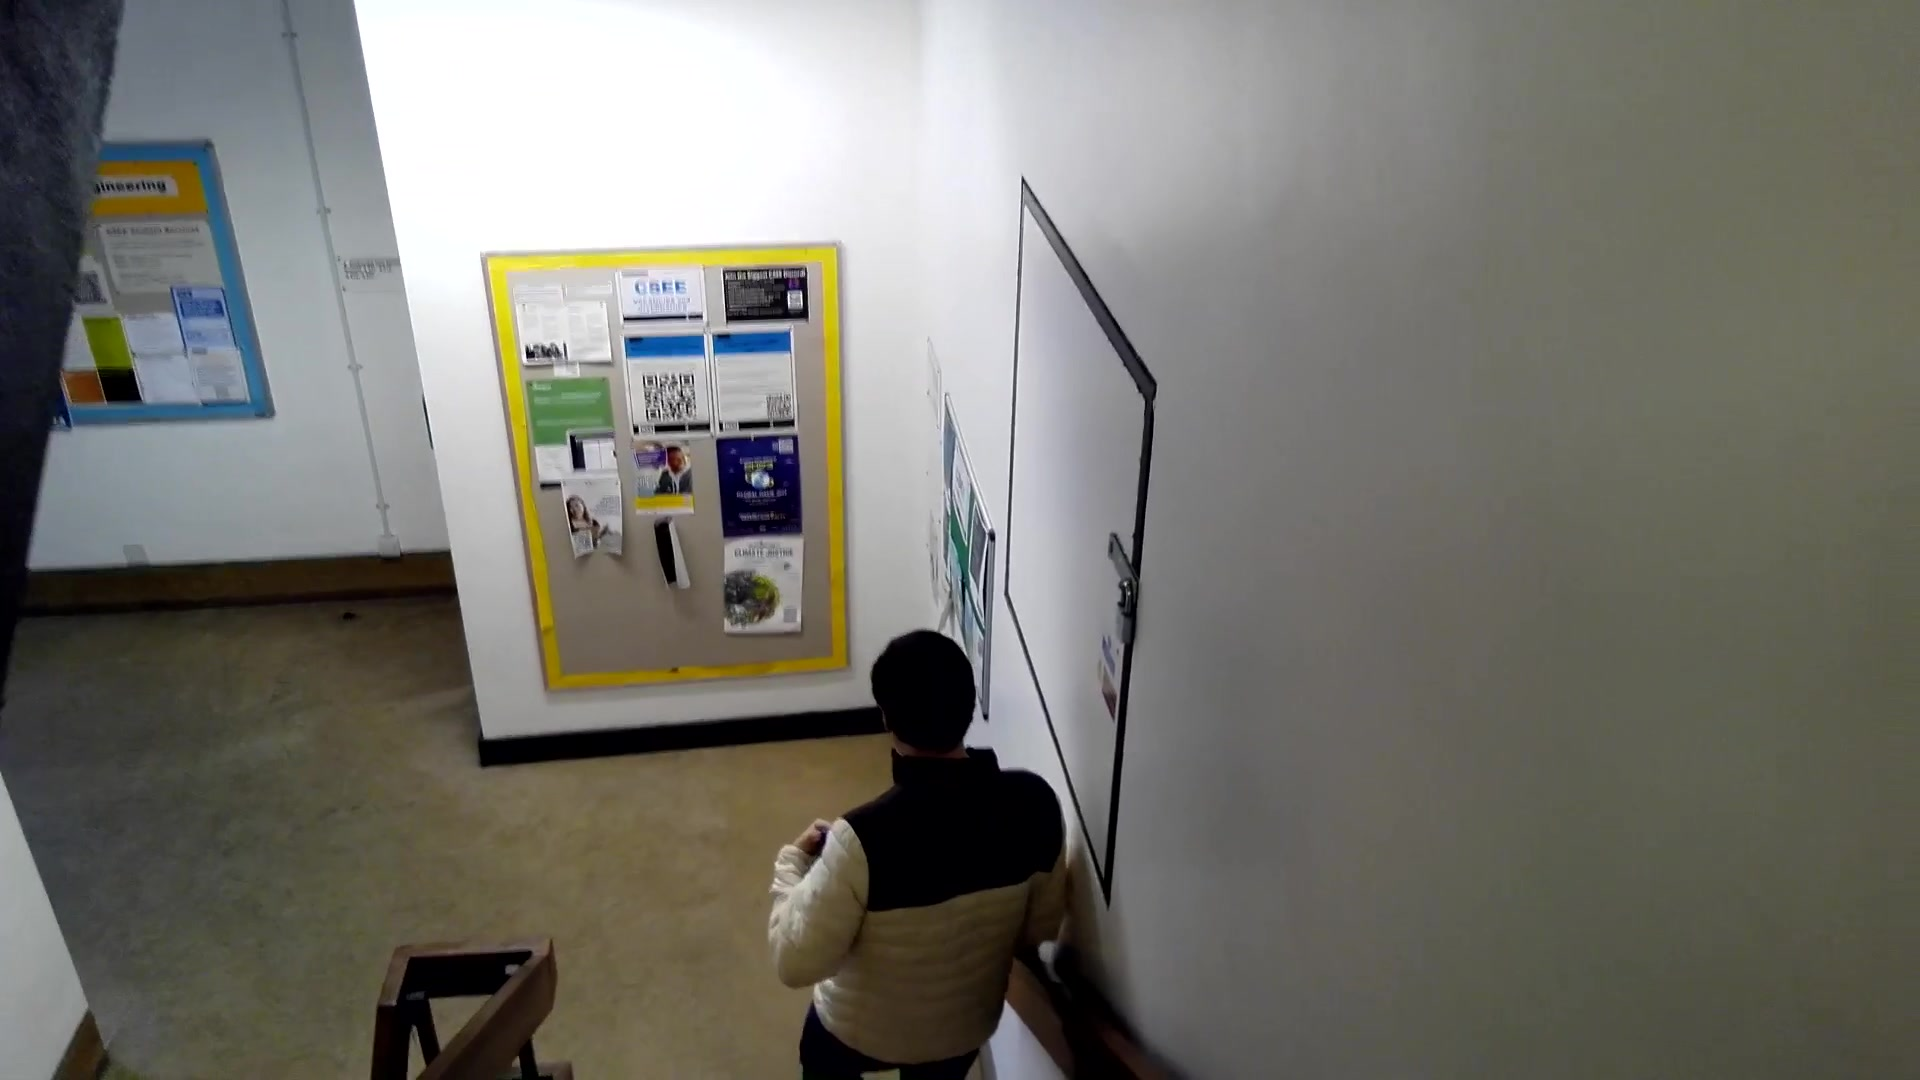Person: (801, 617, 1101, 1080)
